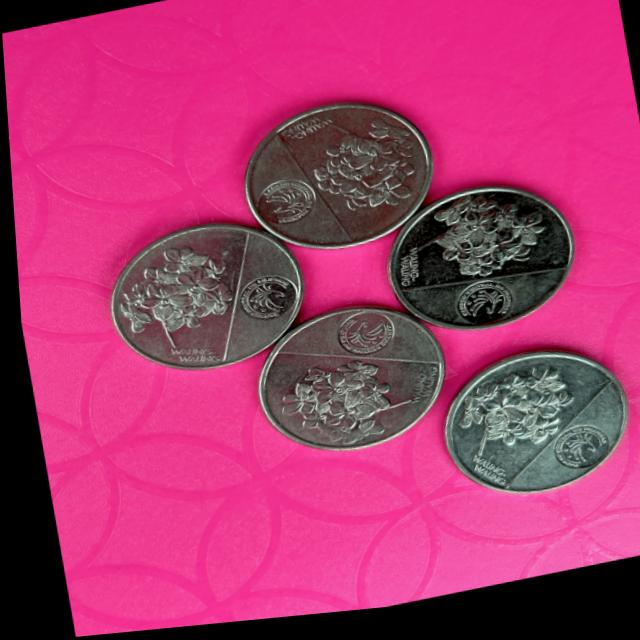1_New_Back: (296, 115, 417, 231), (271, 346, 404, 450), (437, 367, 583, 461), (109, 240, 231, 352), (412, 195, 542, 299)
